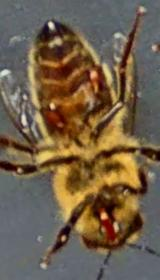varroa_mite: (74, 56, 116, 99), (38, 97, 69, 135)
